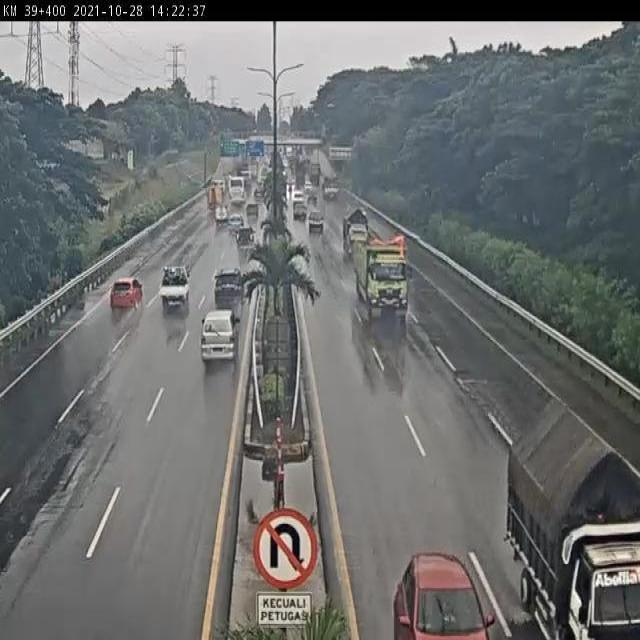ARABA: (160, 262, 191, 306)
KAMYONET: (508, 389, 640, 640), (344, 207, 371, 265)
TIR: (351, 237, 413, 323)
